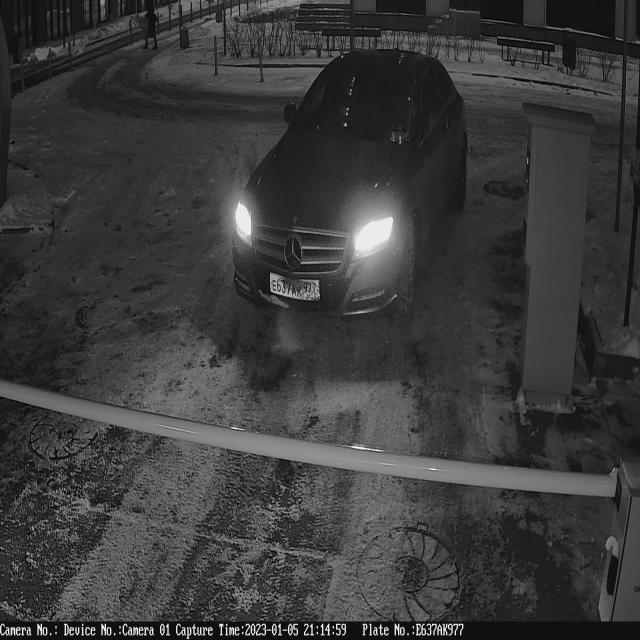car-plate-numbers: (269, 268, 326, 306)
